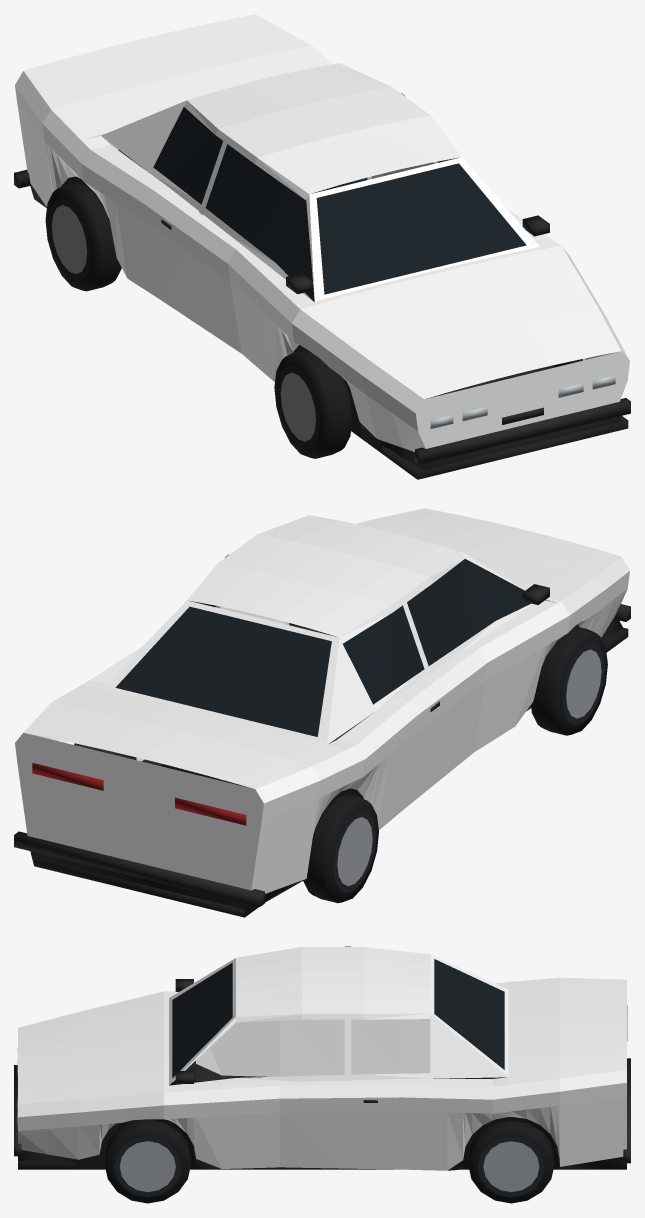
Rendered from ostwerk_cimbra.glb.
The picture shows the model from 3 angles, top to bottom: view 1: azimuth 30°, elevation 25°; view 2: azimuth 150°, elevation 25°; view 3: azimuth 270°, elevation 25°; orthographic projection. The views are drawn at different scales.
Parts seen in each view (by area): view 1: Body_Paint, Body_Details, Mount_FrontLeft_Wheel_Details, Mount_RearLeft_Wheel_Details; view 2: Body_Paint, Body_Details, Mount_FrontLeft_Wheel_Details, Mount_RearLeft_Wheel_Details; view 3: Body_Paint, Body_Details, Mount_FrontRight_Wheel_Details, Mount_RearRight_Wheel_Details.
Boxes of the visible parts, x1,y1,x2,y2 form: Body_Paint: (15, 14, 629, 451); Body_Details: (14, 107, 630, 479); Mount_FrontLeft_Wheel_Details: (274, 349, 352, 458); Mount_RearLeft_Wheel_Details: (45, 182, 121, 291); Body_Paint: (15, 508, 629, 893); Body_Details: (14, 559, 630, 917); Mount_FrontLeft_Wheel_Details: (531, 626, 607, 735); Mount_RearLeft_Wheel_Details: (303, 794, 378, 903); Body_Paint: (18, 946, 626, 1170); Body_Details: (14, 959, 630, 1170); Mount_FrontRight_Wheel_Details: (104, 1119, 190, 1203); Mount_RearRight_Wheel_Details: (468, 1120, 554, 1203).
Bounding box in the file's own units: 1.84 × 1.34 × 4.34.
Materials: 2 (1 with a texture image).
